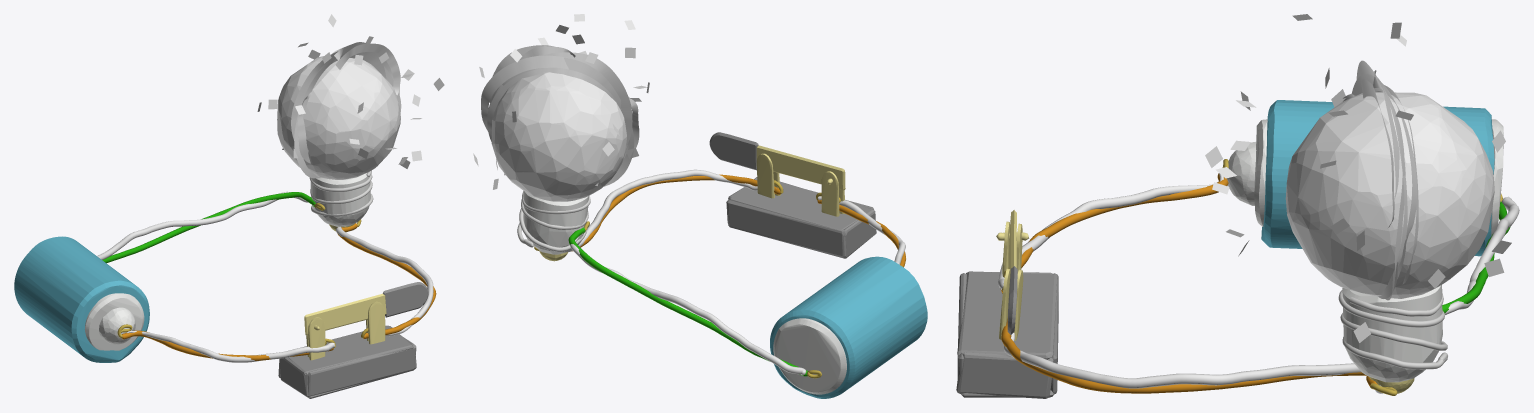
The model's file is Baterai.fbx.
3 views of the same model, side by side, from view 1: azimuth 30°, elevation 25°; view 2: azimuth 150°, elevation 25°; view 3: azimuth 270°, elevation 25° (orthographic). The views are drawn at different scales.
Parts seen in each view (by area): view 1: brush_MatteHull_g0_b0.002, brush_DiamondHull_g1_b0, brush_MatteHull_g0_b0.007, brush_NeonPulse_g0_b0, brush_Icing_g0_b0, brush_Light_g0_b0, brush_MatteHull_g1_b0, brush_Stars_g0_b0, brush_Icing_g1_b0; view 2: brush_MatteHull_g0_b0.002, brush_DiamondHull_g1_b0, brush_MatteHull_g0_b0.007, brush_Light_g0_b0, brush_NeonPulse_g0_b0, brush_Icing_g0_b0, brush_MatteHull_g1_b0, brush_Stars_g0_b0, brush_Icing_g1_b0; view 3: brush_DiamondHull_g1_b0, brush_MatteHull_g0_b0.007, brush_MatteHull_g0_b0.002, brush_NeonPulse_g0_b0, brush_MatteHull_g1_b0, brush_Icing_g0_b0, brush_Light_g0_b0, brush_Stars_g0_b0, brush_Icing_g1_b0.
Part boxes in pixels (bbox=[...]): brush_MatteHull_g0_b0.002: bbox=[14, 236, 149, 362]; brush_DiamondHull_g1_b0: bbox=[277, 56, 400, 179]; brush_MatteHull_g0_b0.007: bbox=[278, 282, 428, 398]; brush_NeonPulse_g0_b0: bbox=[97, 191, 433, 362]; brush_Icing_g0_b0: bbox=[102, 192, 436, 360]; brush_Light_g0_b0: bbox=[291, 42, 401, 178]; brush_MatteHull_g1_b0: bbox=[310, 173, 370, 232]; brush_Stars_g0_b0: bbox=[257, 14, 444, 168]; brush_Icing_g1_b0: bbox=[309, 170, 373, 216]; brush_MatteHull_g0_b0.002: bbox=[770, 256, 927, 398]; brush_DiamondHull_g1_b0: bbox=[491, 72, 627, 201]; brush_MatteHull_g0_b0.007: bbox=[709, 132, 876, 258]; brush_Light_g0_b0: bbox=[481, 45, 639, 186]; brush_NeonPulse_g0_b0: bbox=[568, 169, 905, 375]; brush_Icing_g0_b0: bbox=[534, 174, 905, 378]; brush_MatteHull_g1_b0: bbox=[523, 191, 588, 261]; brush_Stars_g0_b0: bbox=[473, 14, 649, 189]; brush_Icing_g1_b0: bbox=[517, 191, 590, 251]; brush_DiamondHull_g1_b0: bbox=[1285, 92, 1494, 298]; brush_MatteHull_g0_b0.007: bbox=[956, 210, 1058, 398]; brush_MatteHull_g0_b0.002: bbox=[1227, 100, 1503, 256]; brush_NeonPulse_g0_b0: bbox=[997, 173, 1519, 393]; brush_MatteHull_g1_b0: bbox=[1342, 285, 1442, 393]; brush_Icing_g0_b0: bbox=[996, 159, 1510, 395]; brush_Light_g0_b0: bbox=[1343, 60, 1418, 300]; brush_Stars_g0_b0: bbox=[1205, 14, 1511, 342]; brush_Icing_g1_b0: bbox=[1338, 290, 1447, 369].
Size of the model in its own units: 78.09 by 49.9 by 58.68.
